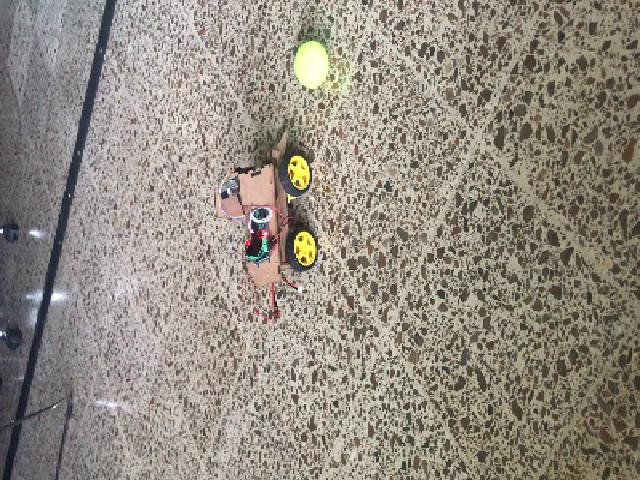Ball: (293, 40, 325, 88)
Robot: (214, 128, 318, 286)
